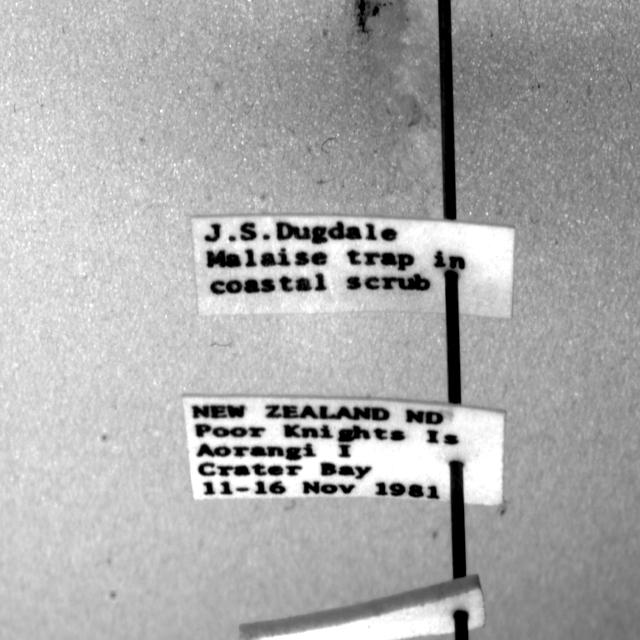typed_label: (182, 396, 504, 504), (191, 216, 514, 317)
